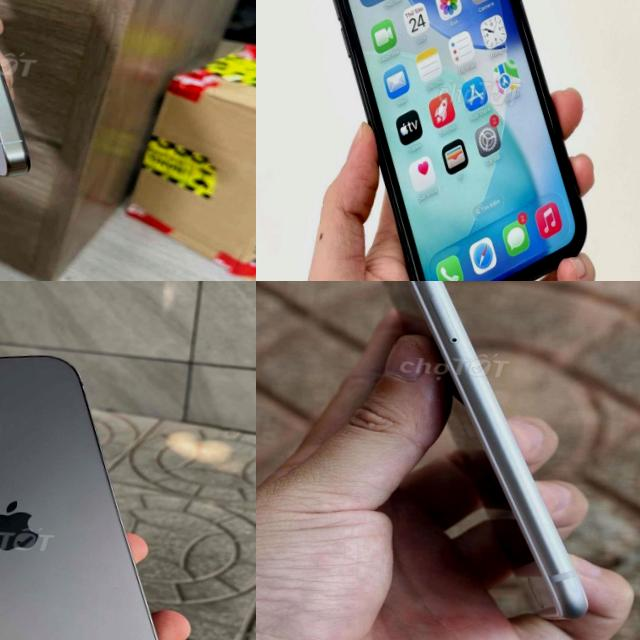gen_11: (289, 0, 608, 281)
gen_14: (0, 341, 193, 640)
gen_7_8: (298, 281, 629, 634)
